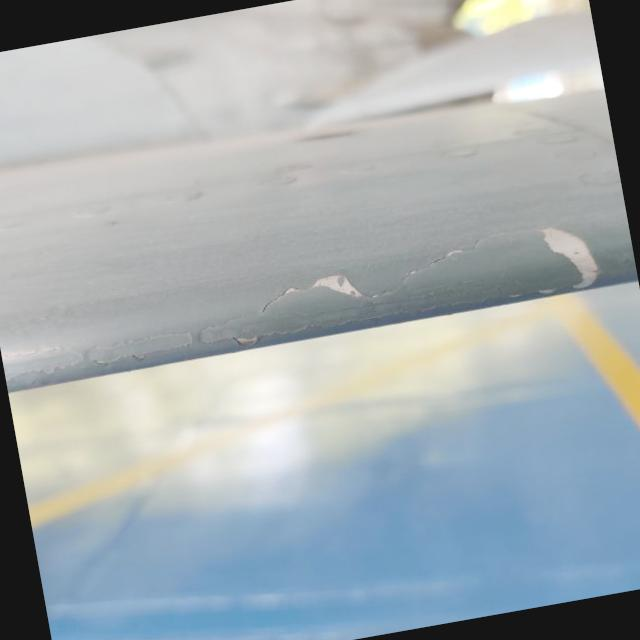paint-off: (252, 250, 382, 330), (527, 206, 610, 302)
